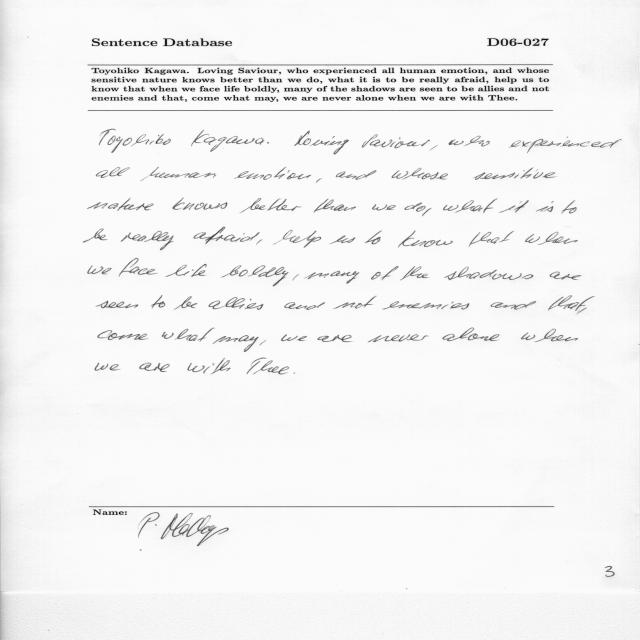word: (509, 137, 622, 153), (99, 129, 171, 153), (191, 130, 265, 152), (97, 296, 198, 310), (222, 265, 288, 286), (294, 131, 349, 155), (444, 267, 533, 280), (193, 227, 260, 244), (141, 167, 217, 181), (121, 231, 174, 250), (234, 167, 311, 180), (473, 168, 556, 180), (362, 135, 430, 149), (398, 231, 453, 248), (241, 198, 301, 213), (548, 295, 595, 314), (87, 198, 154, 211), (274, 230, 322, 248), (443, 198, 497, 213), (213, 335, 259, 352), (162, 328, 215, 342), (443, 328, 500, 341), (521, 329, 578, 342), (119, 258, 157, 277), (469, 231, 514, 247), (305, 271, 360, 284), (209, 297, 264, 310), (525, 232, 578, 245), (188, 358, 231, 374), (391, 168, 448, 180), (247, 358, 289, 374), (173, 198, 228, 210), (314, 199, 356, 213), (333, 296, 377, 309), (165, 264, 207, 277), (98, 330, 148, 340), (408, 302, 469, 310), (368, 335, 429, 343), (400, 266, 429, 281), (448, 136, 490, 146), (336, 170, 377, 180), (491, 301, 536, 310), (371, 266, 399, 280), (499, 200, 529, 213), (96, 167, 130, 178), (84, 229, 108, 243), (139, 363, 170, 372), (382, 301, 412, 310), (550, 272, 581, 280), (317, 335, 352, 342), (329, 235, 356, 244), (366, 231, 382, 245), (88, 266, 112, 275), (562, 200, 577, 214), (95, 363, 121, 371), (536, 201, 554, 212), (405, 203, 426, 212), (281, 335, 307, 342), (372, 204, 396, 211), (284, 302, 307, 309), (306, 302, 325, 310), (422, 208, 432, 216), (429, 145, 438, 151), (292, 275, 299, 281), (259, 340, 266, 345), (316, 178, 322, 183), (257, 240, 263, 245), (267, 142, 269, 144), (294, 373, 296, 374), (578, 311, 579, 312)
